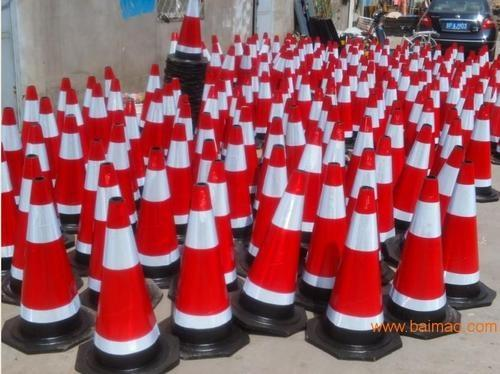cone_barrel: (85, 199, 164, 369), (10, 170, 84, 346), (167, 181, 234, 352), (235, 166, 308, 321), (323, 182, 388, 351), (387, 175, 453, 322), (300, 163, 350, 300), (441, 160, 483, 301), (133, 146, 178, 275), (244, 143, 289, 269), (392, 121, 431, 216), (53, 112, 84, 226), (222, 121, 252, 230), (165, 116, 192, 220), (463, 106, 493, 196), (373, 135, 396, 245), (171, 0, 206, 60), (1, 103, 23, 194), (283, 97, 306, 170), (252, 67, 274, 136), (322, 121, 347, 178), (235, 39, 252, 83), (295, 71, 311, 105)
